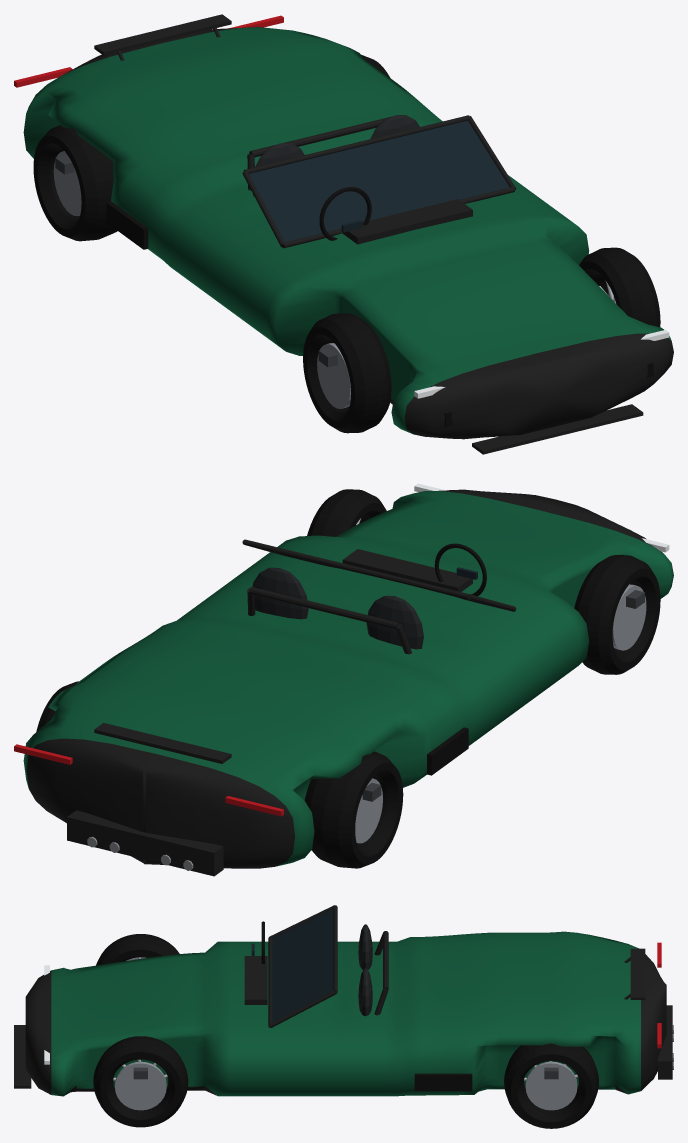
The model's file is Supercar.glb.
3 renders of one model, top to bottom at view 1: azimuth 30°, elevation 25°; view 2: azimuth 150°, elevation 25°; view 3: azimuth 270°, elevation 25°, orthographic. The views are drawn at different scales.
Visible parts, largest first — view 1: CarBody, Windscreen, Tyre, Tyre.002, Tyre.001, WindscreenFrame, Dashboard, Splitter, Spoiler, VentedDisc, SideIntake.001, VentedDisc.002 (+3 smaller); view 2: CarBody, Tyre.002, Tyre, Diffuser, Tyre.001, Dashboard, SeatBack.001, SeatBack, WindscreenFrame, Spoiler, VentedDisc, RollBarTop (+3 smaller); view 3: CarBody, Windscreen, Tyre.001, Tyre.003, VentedDisc.003, VentedDisc.001, Tyre, WindscreenFrame, Dashboard, SideIntake, Splitter, Spoiler (+4 smaller).
Boxes of the visible parts, x1,y1,x2,y2 form: CarBody: [23, 27, 673, 439]; Windscreen: [249, 120, 509, 242]; Tyre: [303, 313, 391, 433]; Tyre.002: [33, 125, 117, 241]; Tyre.001: [579, 247, 660, 326]; WindscreenFrame: [242, 115, 516, 248]; Dashboard: [342, 199, 472, 244]; Splitter: [472, 404, 643, 454]; Spoiler: [94, 14, 231, 55]; VentedDisc: [317, 343, 350, 408]; SideIntake.001: [106, 201, 148, 249]; VentedDisc.002: [53, 151, 81, 216]; CarBody: [23, 489, 673, 868]; Tyre.002: [304, 751, 403, 868]; Tyre: [574, 555, 660, 674]; Diffuser: [67, 810, 223, 876]; Tyre.001: [307, 489, 386, 536]; Dashboard: [342, 549, 472, 591]; SeatBack.001: [366, 595, 423, 649]; SeatBack: [252, 567, 308, 619]; WindscreenFrame: [242, 539, 516, 611]; Spoiler: [94, 723, 231, 763]; VentedDisc: [612, 584, 646, 650]; RollBarTop: [249, 586, 399, 629]; CarBody: [25, 931, 666, 1096]; Windscreen: [272, 909, 333, 1022]; Tyre.001: [93, 1036, 188, 1127]; Tyre.003: [504, 1043, 598, 1128]; VentedDisc.003: [525, 1061, 577, 1110]; VentedDisc.001: [115, 1061, 166, 1110]; Tyre: [96, 934, 179, 965]; WindscreenFrame: [268, 905, 337, 1027]; Dashboard: [244, 956, 267, 1004]; SideIntake: [414, 1073, 472, 1091]; Splitter: [14, 1025, 31, 1088]; Spoiler: [630, 948, 645, 999].
Bounding box in the file's own units: 2.03 × 0.983 × 4.58.
